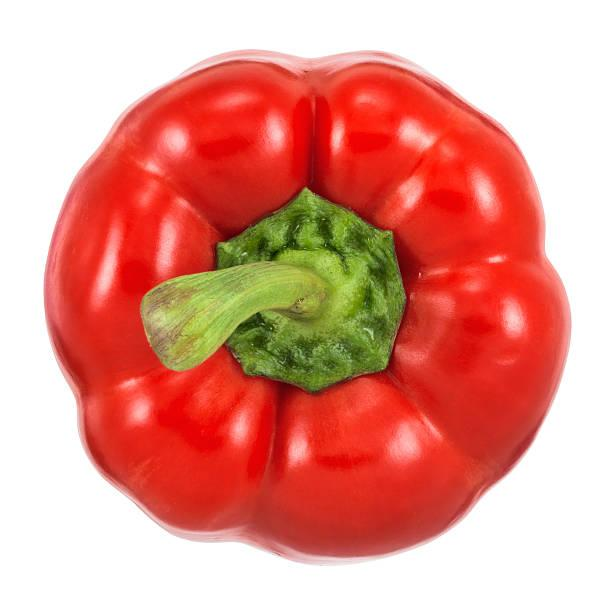Capsicum: (44, 50, 569, 558)
